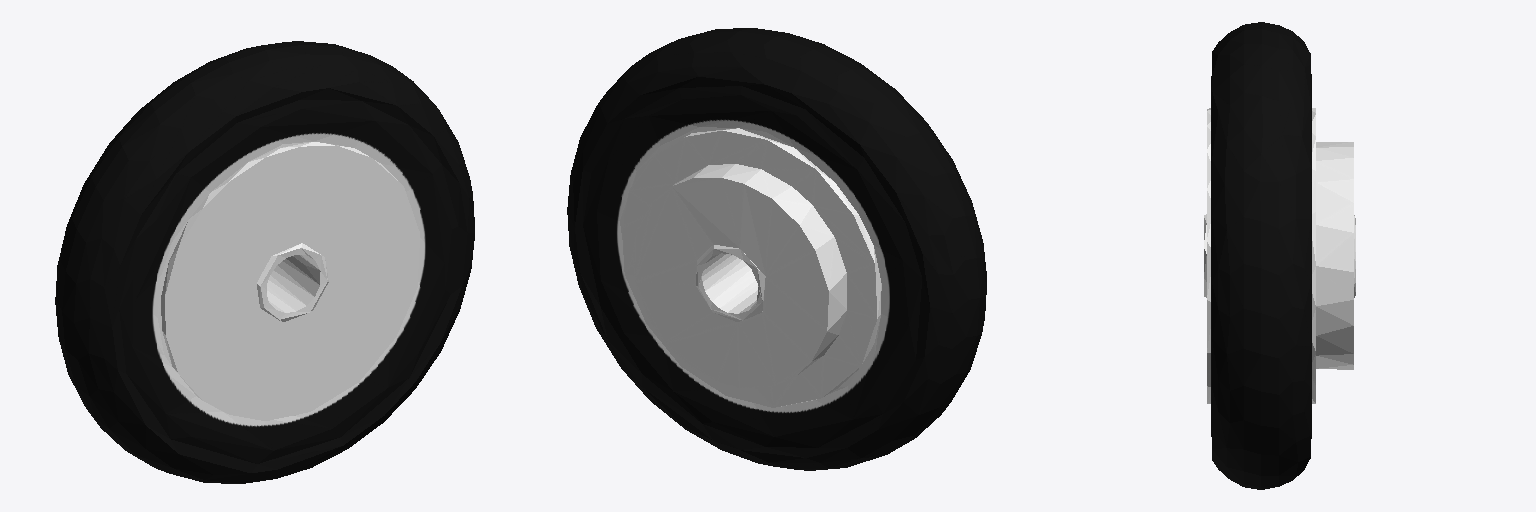
3 views of the same model, side by side, from view 1: azimuth 30°, elevation 25°; view 2: azimuth 150°, elevation 25°; view 3: azimuth 270°, elevation 25° (orthographic).
Parts seen in each view (by area): view 1: /ambf/env/pr2/br_caster_l_wheel_link_/ambf/env/pr2/br_caster_l_w; view 2: /ambf/env/pr2/br_caster_l_wheel_link_/ambf/env/pr2/br_caster_l_w; view 3: /ambf/env/pr2/br_caster_l_wheel_link_/ambf/env/pr2/br_caster_l_w.
Part boxes in pixels (bbox=[...]): /ambf/env/pr2/br_caster_l_wheel_link_/ambf/env/pr2/br_caster_l_w: bbox=[55, 41, 474, 483]; /ambf/env/pr2/br_caster_l_wheel_link_/ambf/env/pr2/br_caster_l_w: bbox=[567, 28, 986, 470]; /ambf/env/pr2/br_caster_l_wheel_link_/ambf/env/pr2/br_caster_l_w: bbox=[1204, 22, 1355, 489].
Size of the model in its own units: 0.1588 by 0.1588 by 0.0517.
Materials: 1 (1 with a texture image).